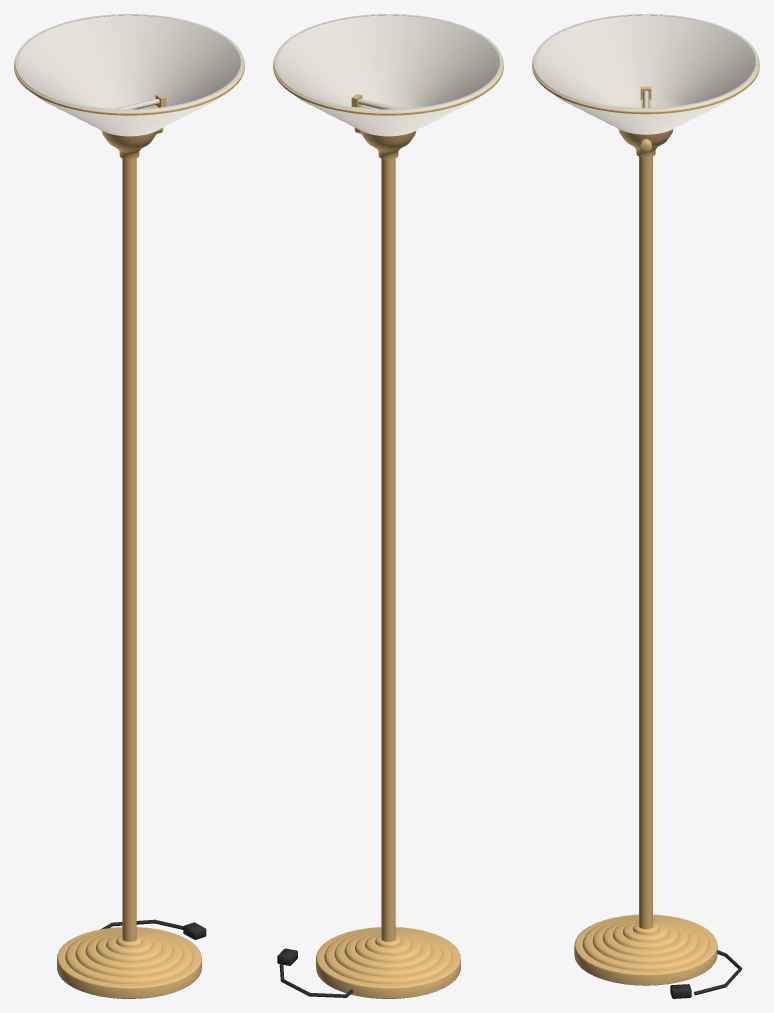
Rendered from Kit_Torchiere.fbx.
3 renders of one model, left to right at view 1: azimuth 30°, elevation 25°; view 2: azimuth 150°, elevation 25°; view 3: azimuth 270°, elevation 25°, orthographic.
Parts seen in each view (by area): view 1: Kit_Torchiere_LOD0; view 2: Kit_Torchiere_LOD0; view 3: Kit_Torchiere_LOD0.
Part boxes in pixels (x1,y1,x2,y2): Kit_Torchiere_LOD0: (14, 14, 244, 998); Kit_Torchiere_LOD0: (273, 14, 503, 998); Kit_Torchiere_LOD0: (532, 14, 759, 998).
Size of what is drawn, in the model's own units: 0.39 by 1.69 by 0.39.
